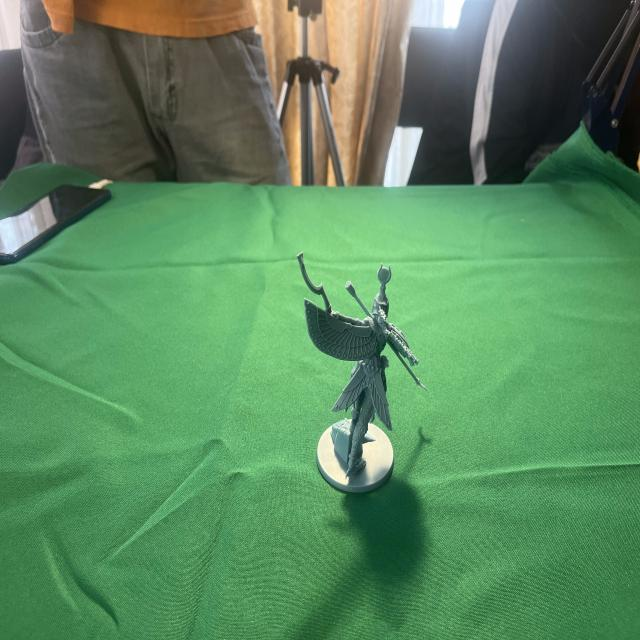isis: (290, 232, 430, 501)
